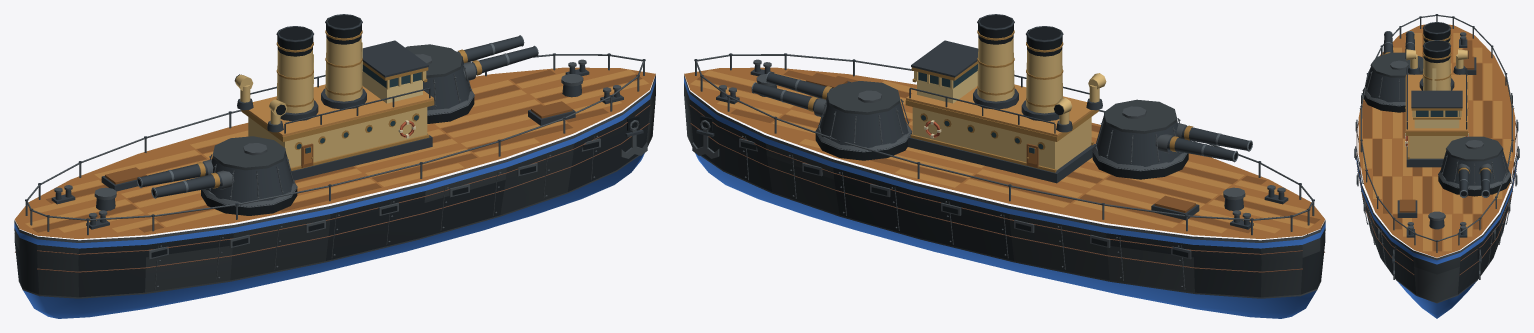
3 views of the same model, side by side, from view 1: azimuth 30°, elevation 25°; view 2: azimuth 150°, elevation 25°; view 3: azimuth 270°, elevation 25° (orthographic). The views are drawn at different scales.
Parts seen in each view (by area): view 1: hull_black_armor, timber_main_deck, hull_team_lower, team_sheer_ribbon, buff_deckhouse, boat_deck_wood, main_guns_aft_starboard_armored_slope, upper_iron_lip, funnel_buff_1, funnel_buff_0, main_guns_aft_starboard_top_plate, bridge_roof_iron (+35 smaller); view 2: hull_black_armor, timber_main_deck, hull_team_lower, buff_deckhouse, team_sheer_ribbon, main_guns_forward_port_armored_slope, boat_deck_wood, main_guns_aft_starboard_armored_slope, upper_iron_lip, deckhouse_base, funnel_buff_1, funnel_buff_0 (+33 smaller); view 3: timber_main_deck, hull_black_armor, main_guns_forward_port_armored_slope, boat_deck_wood, main_guns_forward_port_top_plate, main_guns_aft_starboard_armored_slope, bridge_roof_iron, buff_deckhouse, team_sheer_ribbon, main_guns_aft_starboard_top_plate, funnel_buff_1, hull_team_lower (+65 smaller).
Boxes of the visible parts, x1,y1,x2,y2 form: hull_black_armor: [14, 83, 655, 297]; timber_main_deck: [14, 67, 655, 238]; hull_team_lower: [23, 153, 644, 318]; team_sheer_ribbon: [14, 77, 655, 248]; buff_deckhouse: [248, 107, 427, 167]; boat_deck_wood: [246, 84, 433, 136]; main_guns_aft_starboard_armored_slope: [206, 151, 293, 202]; upper_iron_lip: [14, 74, 655, 242]; funnel_buff_1: [325, 37, 362, 101]; funnel_buff_0: [277, 49, 313, 113]; main_guns_aft_starboard_top_plate: [212, 136, 285, 170]; bridge_roof_iron: [362, 40, 428, 77]; hull_black_armor: [684, 83, 1325, 297]; timber_main_deck: [684, 67, 1325, 238]; hull_team_lower: [695, 153, 1316, 318]; buff_deckhouse: [912, 107, 1091, 170]; team_sheer_ribbon: [684, 77, 1325, 248]; main_guns_forward_port_armored_slope: [819, 96, 908, 147]; boat_deck_wood: [906, 84, 1093, 136]; main_guns_aft_starboard_armored_slope: [1096, 115, 1183, 166]; upper_iron_lip: [684, 74, 1325, 242]; deckhouse_base: [908, 134, 1094, 183]; funnel_buff_1: [977, 37, 1014, 101]; funnel_buff_0: [1026, 49, 1062, 113]; timber_main_deck: [1358, 24, 1515, 257]; hull_black_armor: [1356, 155, 1517, 302]; main_guns_forward_port_armored_slope: [1440, 150, 1508, 185]; boat_deck_wood: [1406, 74, 1467, 132]; main_guns_forward_port_top_plate: [1446, 136, 1502, 161]; main_guns_aft_starboard_armored_slope: [1365, 66, 1422, 102]; bridge_roof_iron: [1411, 90, 1462, 108]; buff_deckhouse: [1409, 136, 1464, 158]; team_sheer_ribbon: [1356, 158, 1517, 264]; main_guns_aft_starboard_top_plate: [1371, 52, 1423, 77]; funnel_buff_1: [1423, 58, 1450, 90]; hull_team_lower: [1397, 281, 1476, 318].
Size of the model in its own units: 2.55 by 0.8563 by 0.757.
